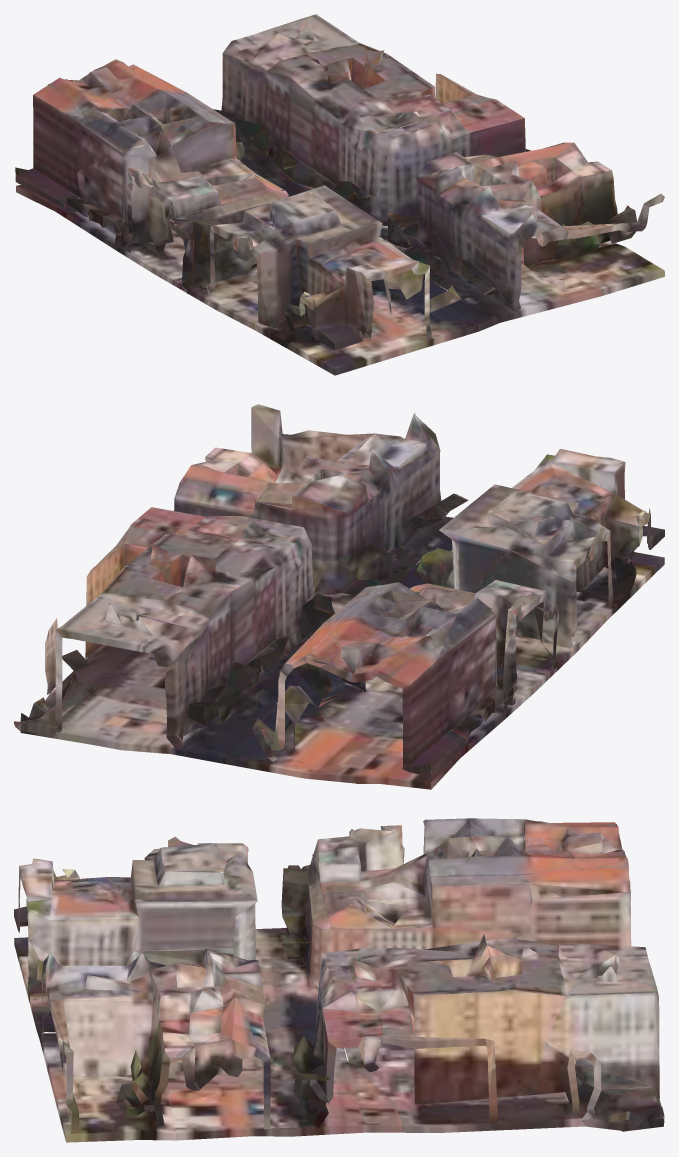
3 views of the same model, one above another, from view 1: azimuth 30°, elevation 25°; view 2: azimuth 150°, elevation 25°; view 3: azimuth 270°, elevation 25° (orthographic). The views are drawn at different scales.
Parts seen in each view (by area): view 1: Mesh_0; view 2: Mesh_0; view 3: Mesh_0.
Boxes of the visible parts, left/top/right/bottom form: Mesh_0: left=15, top=14, right=664, bottom=375; Mesh_0: left=14, top=404, right=664, bottom=789; Mesh_0: left=14, top=818, right=664, bottom=1142.
Bounding box in the file's own units: 134 × 39.81 × 165.
Materials: 1 (1 with a texture image).
